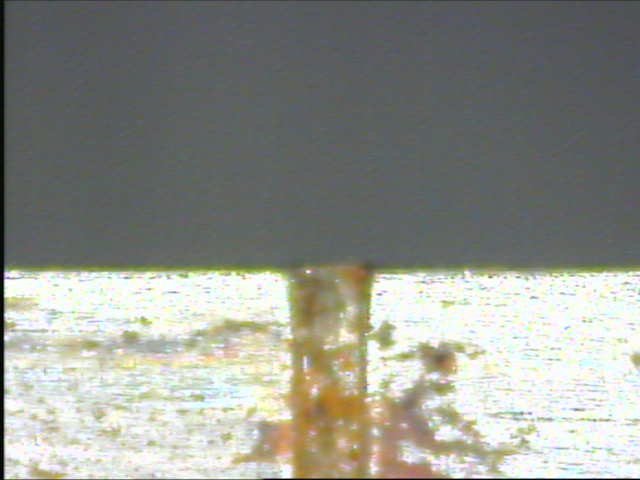line: (286, 272, 372, 479)
